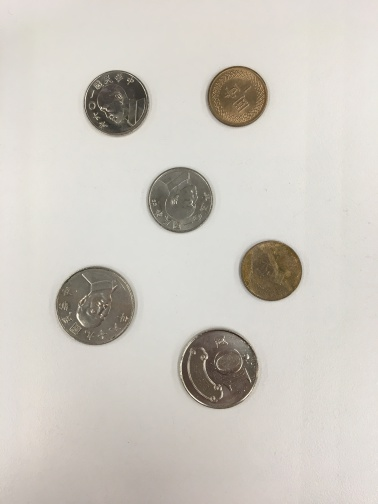1 dollar: (197, 57, 285, 138), (232, 233, 314, 312)
10 dollar: (44, 256, 152, 354), (166, 320, 269, 421)
5 dollar: (135, 156, 223, 243), (79, 66, 159, 144)
